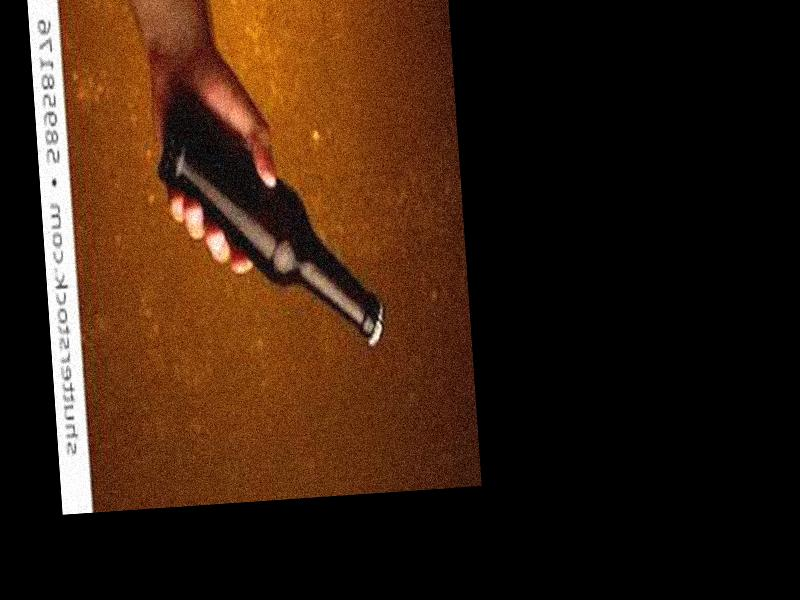Beer: (152, 69, 388, 363)
